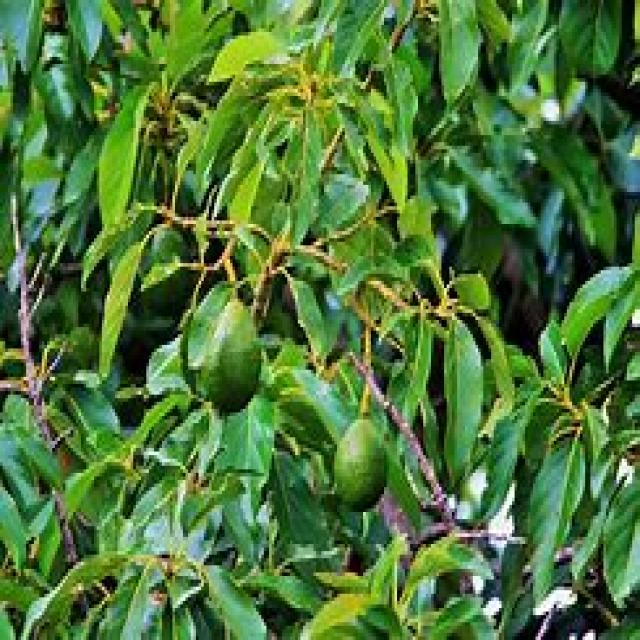Avocado: (202, 279, 262, 418), (336, 408, 387, 505), (140, 220, 188, 308)
